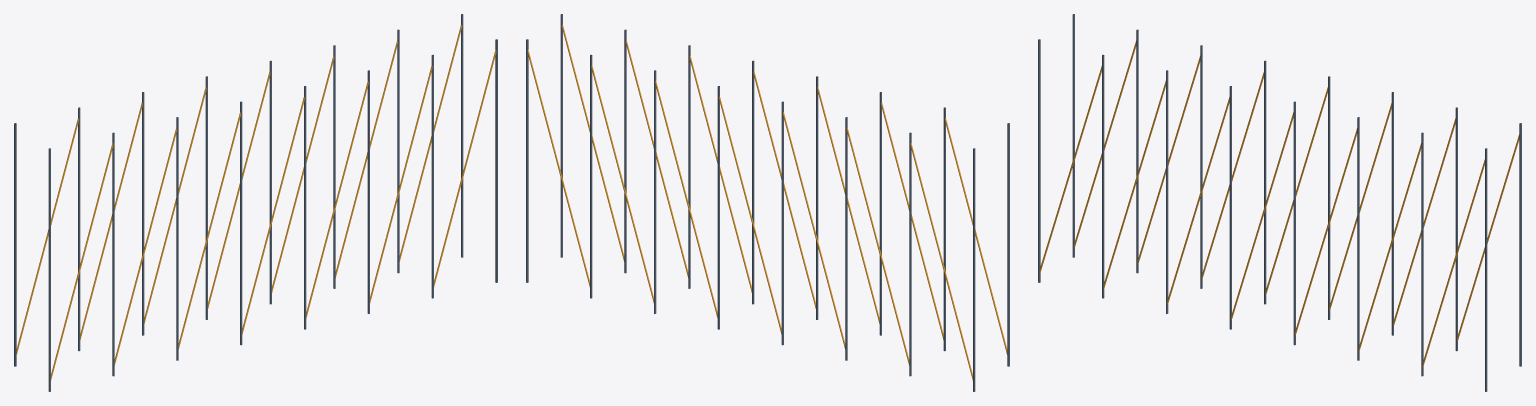
Rendered from 14_L87_GravityStationIsolationTruss.fbx.
The picture shows the model from 3 angles, left to right: view 1: azimuth 30°, elevation 25°; view 2: azimuth 150°, elevation 25°; view 3: azimuth 330°, elevation 25°; orthographic projection.
Parts seen in each view (by area): view 1: L87_GravityStationIsolationTruss; view 2: L87_GravityStationIsolationTruss; view 3: L87_GravityStationIsolationTruss.
Boxes of the visible parts, x1,y1,x2,y2 form: L87_GravityStationIsolationTruss: (14,14,497,391); L87_GravityStationIsolationTruss: (526,14,1009,391); L87_GravityStationIsolationTruss: (1038,14,1521,391).
Size of the model in its own units: 2110 by 1090 by 290.
